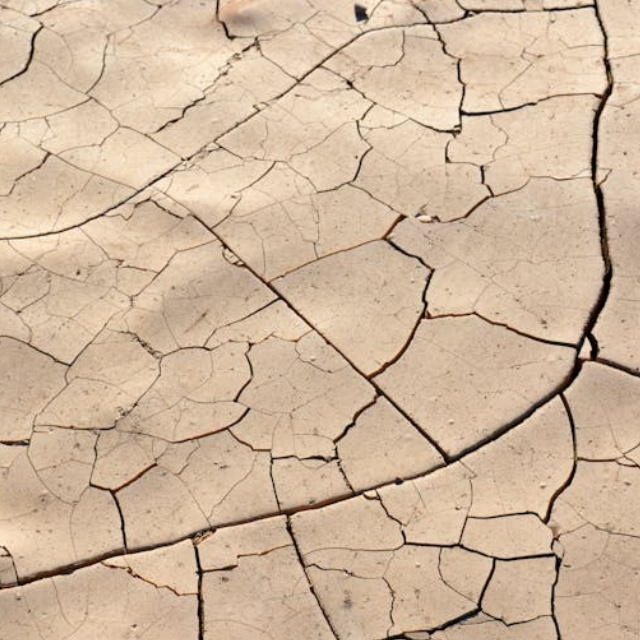细微裂纹: (103, 0, 639, 149), (521, 299, 640, 484), (0, 0, 72, 111)
网状裂隙: (0, 101, 625, 640)
